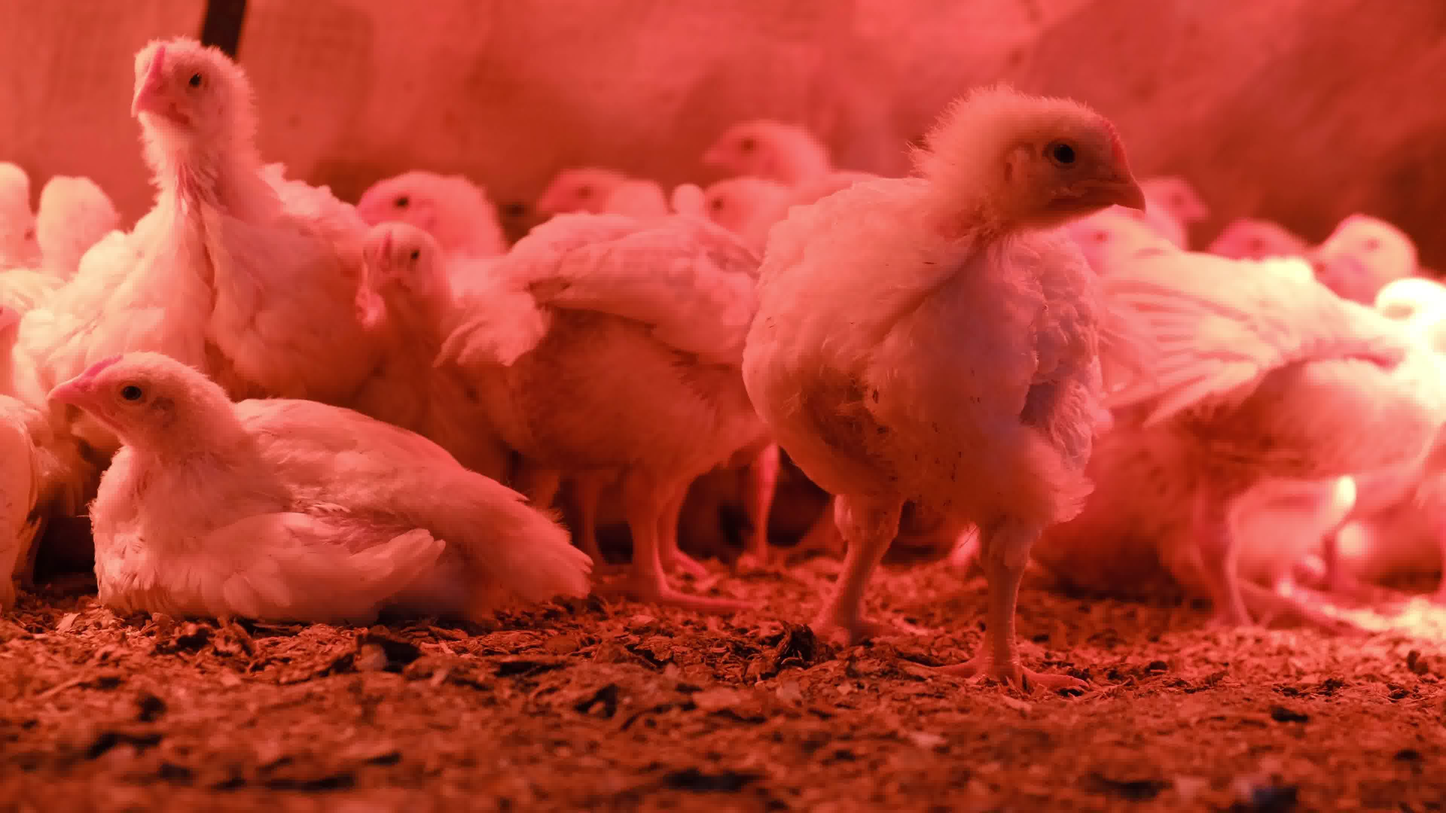AbNormal: (49, 349, 592, 629), (1126, 473, 1373, 601)
Normal: (744, 91, 1149, 703), (1058, 275, 1446, 632), (19, 30, 381, 407), (448, 221, 788, 604), (349, 219, 525, 456), (358, 172, 509, 268), (31, 174, 119, 300), (695, 115, 844, 184), (1307, 211, 1412, 286), (703, 177, 796, 241), (539, 170, 643, 225), (1150, 170, 1217, 243), (0, 155, 34, 283), (1059, 211, 1149, 259), (697, 625, 705, 631)
